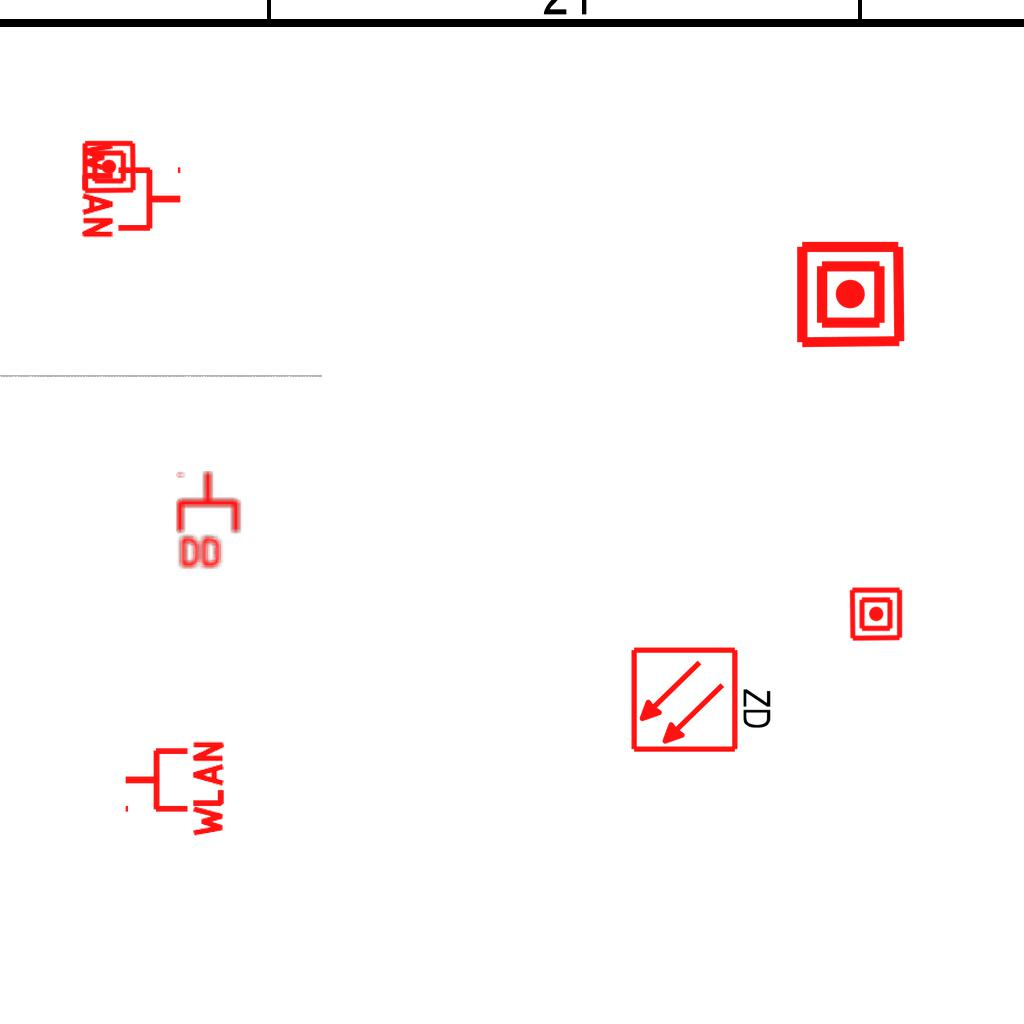Datenanschluss_zweifach: (175, 469, 244, 572)
NAM-Nichtautomatischer_Melder: (794, 238, 907, 351), (848, 586, 904, 642), (81, 139, 137, 195)
WLAN: (80, 138, 185, 242), (121, 737, 226, 841)
ZD_Melder_in_Zwischendecke_mit_Revisionsoeffnung_mind_40_x_40_cm: (629, 641, 778, 755)
